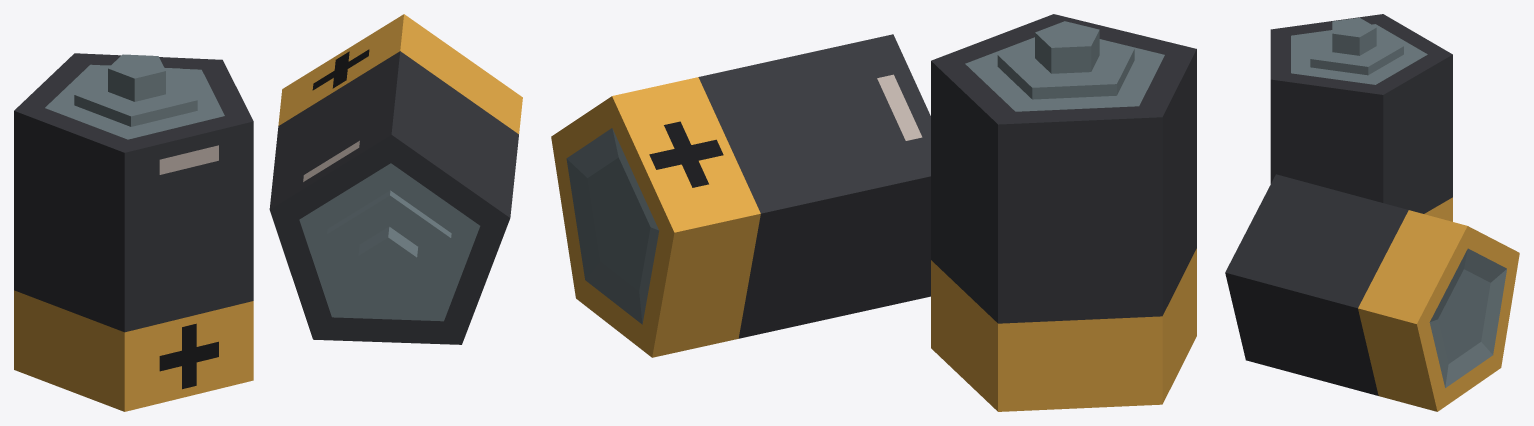
The model's file is SM_Battery.fbx.
The picture shows the model from 3 angles, left to right: view 1: azimuth 30°, elevation 25°; view 2: azimuth 150°, elevation 25°; view 3: azimuth 270°, elevation 25°; orthographic projection. The views are drawn at different scales.
Parts seen in each view (by area): view 1: SM_Battery; view 2: SM_Battery; view 3: SM_Battery.
Boxes of the visible parts, x1=… form: SM_Battery: x1=14, y1=14, x2=522, y2=411; SM_Battery: x1=551, y1=14, x2=1196, y2=411; SM_Battery: x1=1225, y1=14, x2=1519, y2=411.
Bounding box in the file's own units: 20.74 × 10.96 × 12.56.
